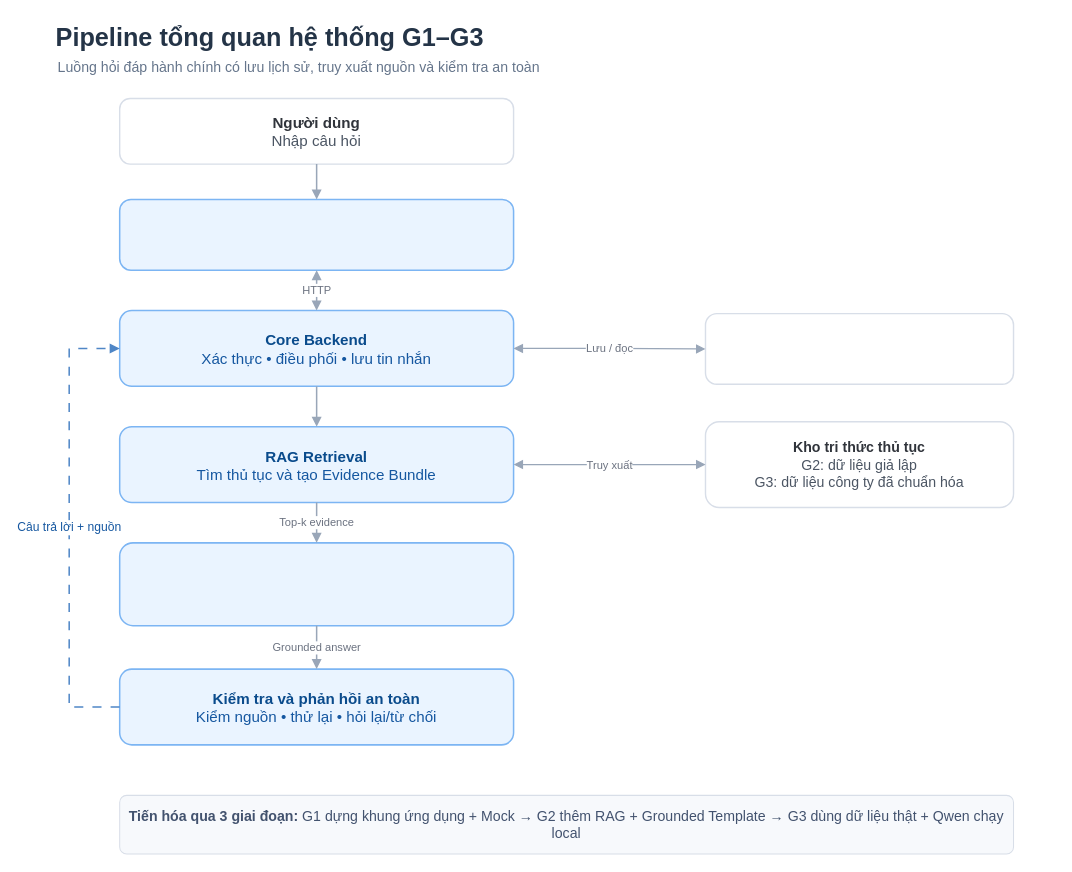
The diagram is 1072 pixels wide and 872 high, and some of its shapes have lost their labels. Here are the shapes that lost their labels. From the top down, the centre of each, then its label:
[316,234]: Frontend Giao diện chat • gửi/nhận HTTP
[859,348]: PostgreSQL Người dùng • hội thoại • lịch sử
[316,584]: AI Service / Provider G1: Mock • G2: Grounded Template • G3: Local Qwen
